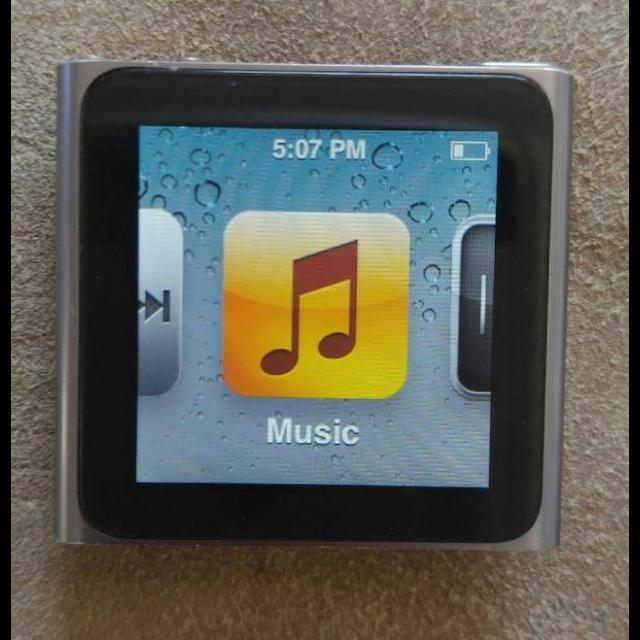Music-Player: (41, 44, 600, 556)
